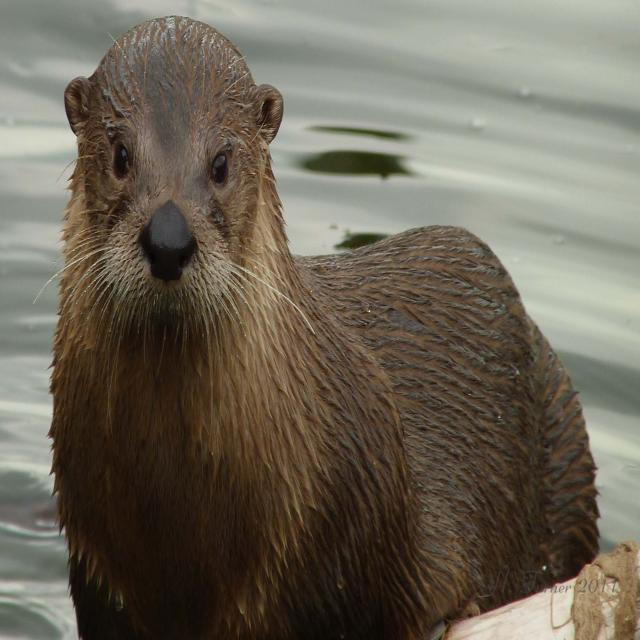otter: (54, 18, 598, 640)
